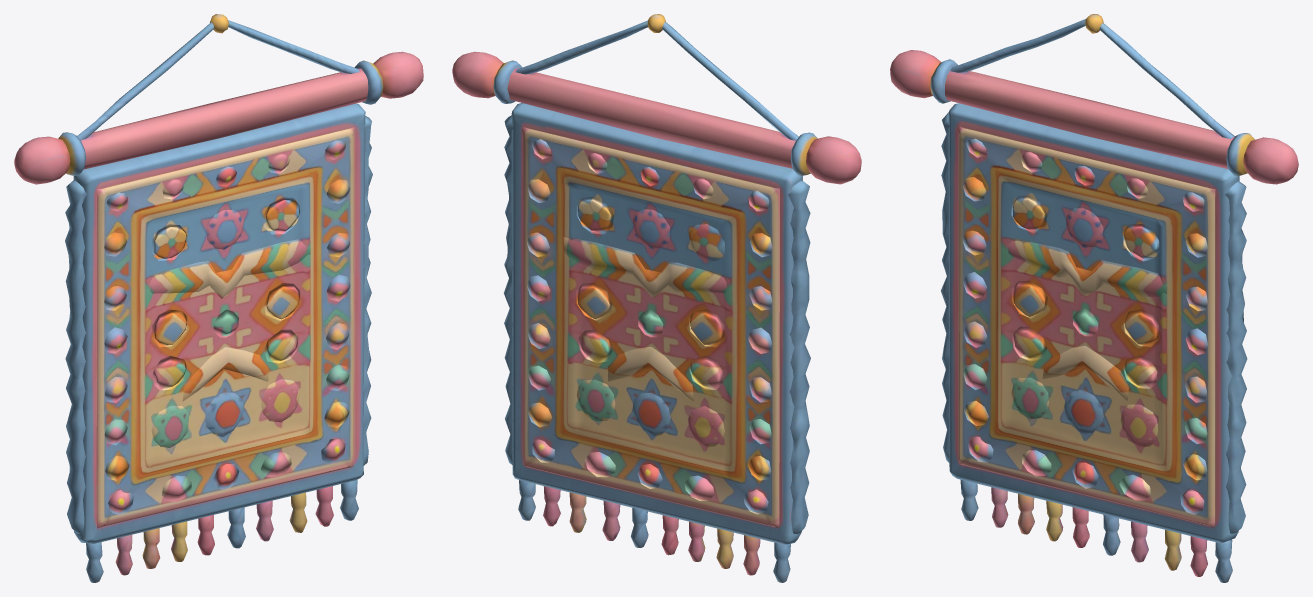
File: tea-wall-carpet.glb
The picture shows the model from 3 angles, left to right: view 1: azimuth 30°, elevation 25°; view 2: azimuth 150°, elevation 25°; view 3: azimuth 330°, elevation 25°; orthographic projection.
Visible parts, largest first — view 1: geometry_0; view 2: geometry_0; view 3: geometry_0.
Part boxes in pixels (bbox=[...]): geometry_0: bbox=[14, 14, 423, 582]; geometry_0: bbox=[452, 14, 861, 582]; geometry_0: bbox=[890, 14, 1298, 582].
Size of the model in its own units: 0.7908 by 1 by 0.0791.
Materials: 1 (1 with a texture image).
